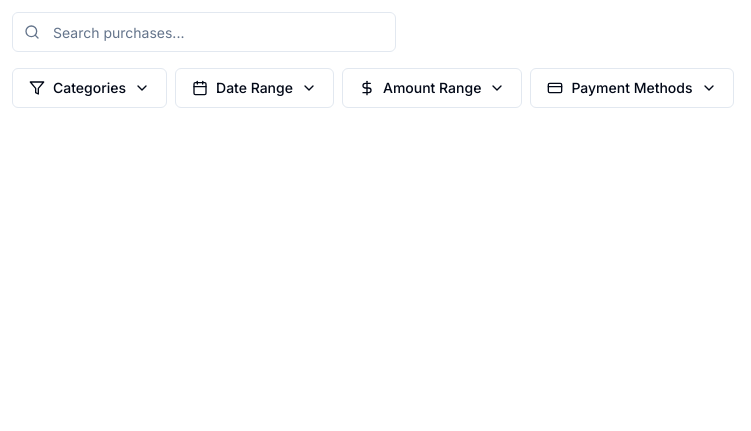
PurchaseFilters › should validate amount range inputs
This screenshot has width=751, height=431.
Click the button "Amount Range": coordinates (432, 88) [342,68,522,108]
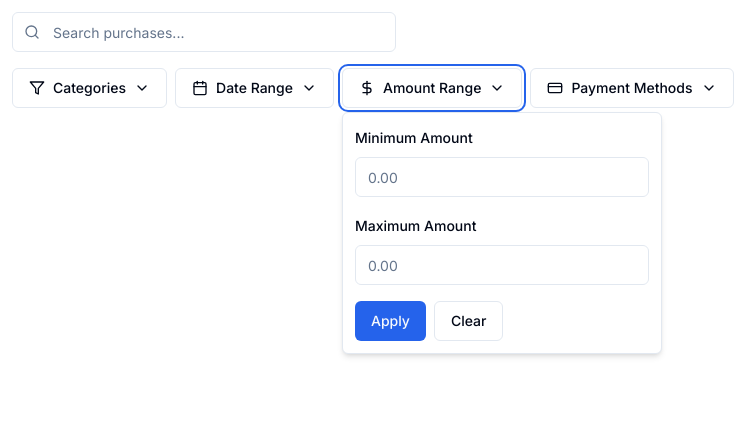
In the number field labelled "Minimum Amount": coordinates (502, 177) [355,157,649,197], type "100"
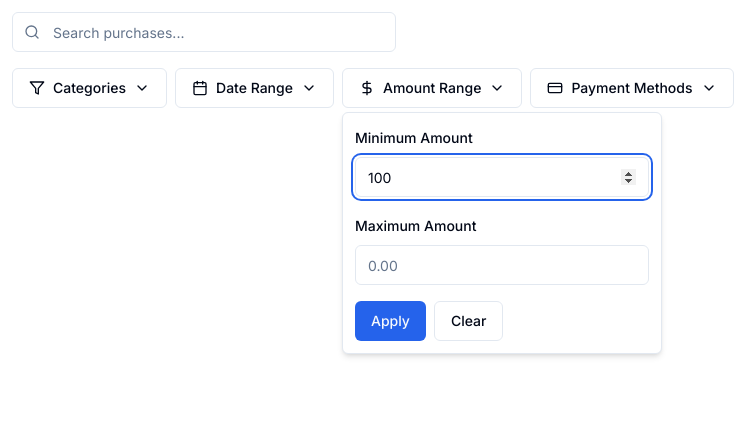
In the number field labelled "Maximum Amount": coordinates (502, 265) [355,245,649,285], type "50"
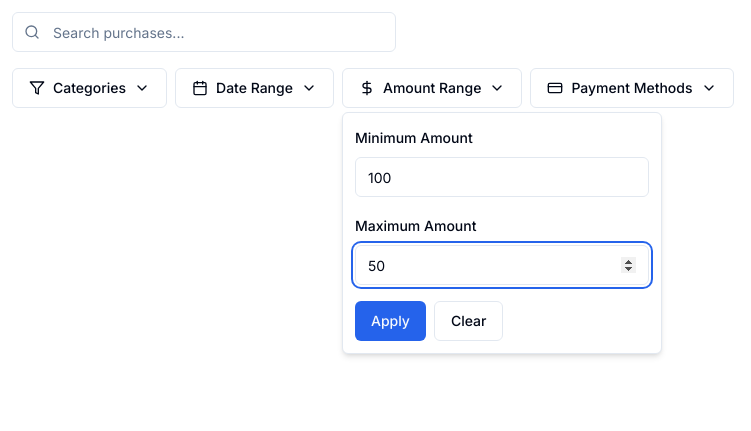
Click the button "Apply": coordinates (390, 321) [355,301,426,341]
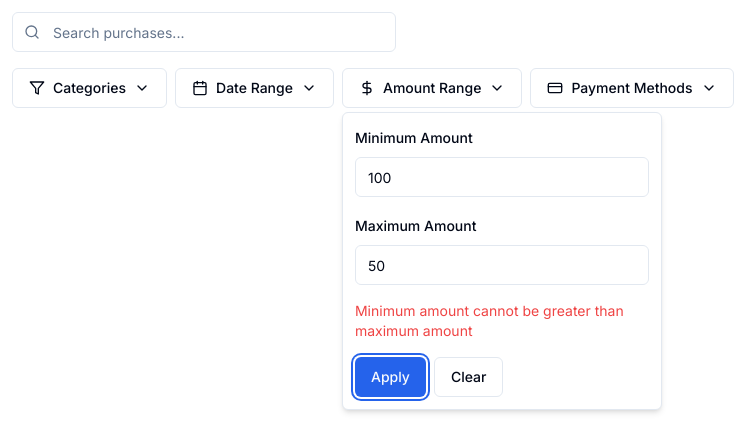
Expected: the text "Minimum amount cannot be greater than maximum amount" is shown, [355,301,649,341]
